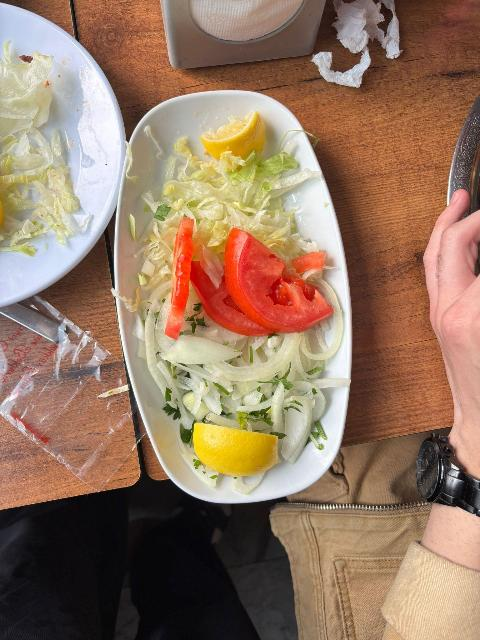Kagit: (319, 0, 411, 103)
Organik: (223, 227, 325, 327), (166, 219, 208, 338), (180, 436, 291, 473), (162, 342, 242, 383), (200, 112, 262, 162)
